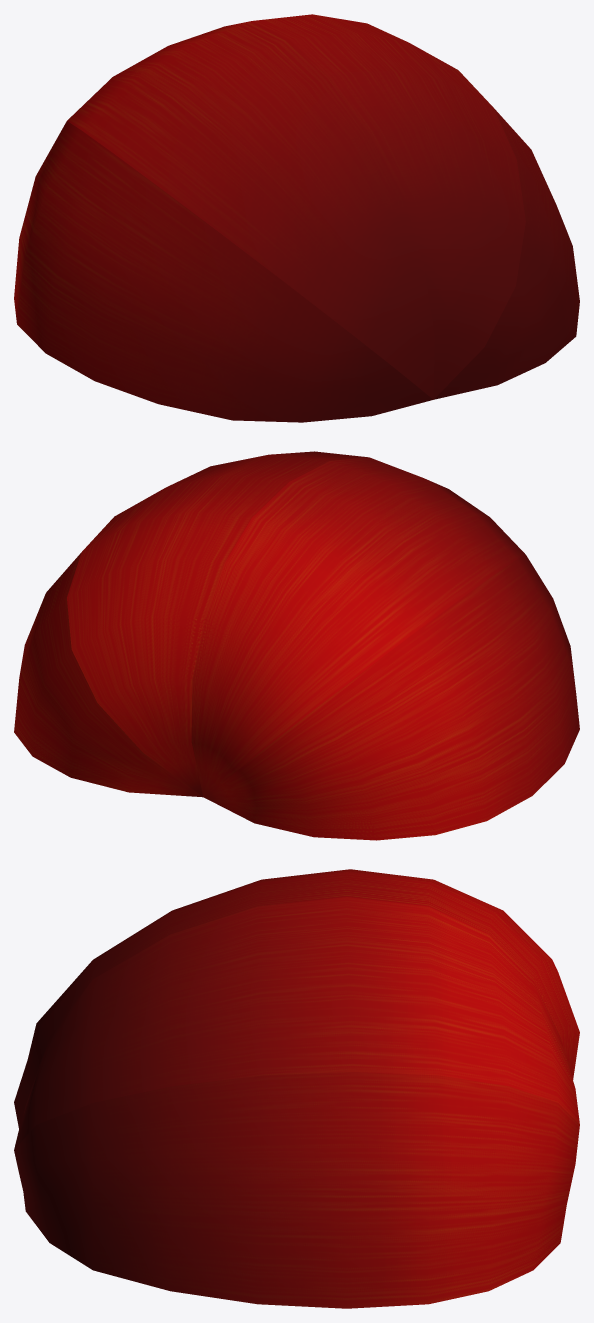
The model's file is Apple_Big.fbx.
3 renders of one model, top to bottom at view 1: azimuth 30°, elevation 25°; view 2: azimuth 150°, elevation 25°; view 3: azimuth 270°, elevation 25°, orthographic. The views are drawn at different scales.
Parts seen in each view (by area): view 1: Apple_Big; view 2: Apple_Big; view 3: Apple_Big.
Part boxes in pixels (<box>): Apple_Big: <box>14,14,579,422</box>; Apple_Big: <box>14,451,579,840</box>; Apple_Big: <box>14,869,579,1308</box>.
Bounding box in the file's own units: 135 × 67.63 × 124.
